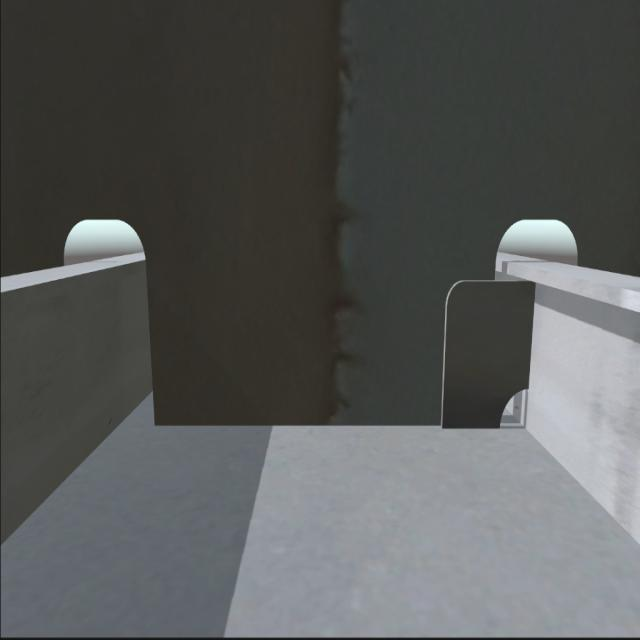fillet_hole: (496, 380, 540, 435)
fillet_yong_jeop_jang: (152, 412, 502, 439)
longi_yong_jeop_jang: (526, 281, 538, 391)
plate_CP05: (444, 282, 536, 438)
